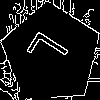L: (26, 29, 78, 77)
